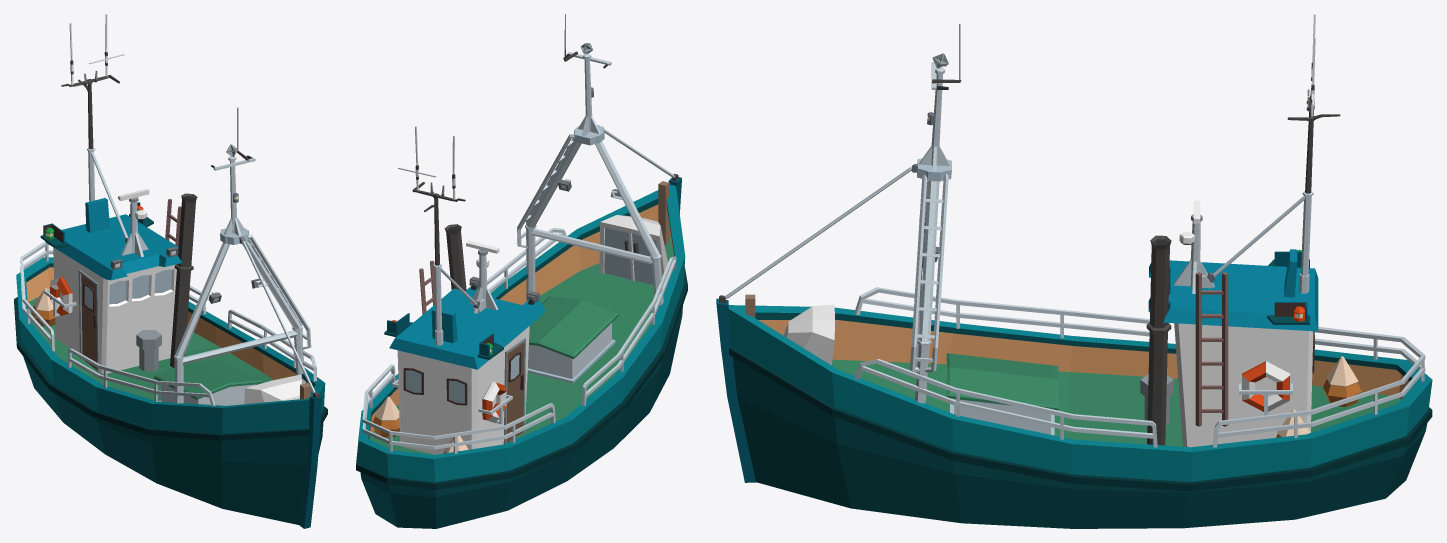
Rendered from boat.glb.
3 views of the same model, side by side, from view 1: azimuth 30°, elevation 25°; view 2: azimuth 150°, elevation 25°; view 3: azimuth 270°, elevation 25° (orthographic). The views are drawn at different scales.
Visible parts, largest first — view 1: FB Medium Hull_Boat 2_0; view 2: FB Medium Hull_Boat 2_0; view 3: FB Medium Hull_Boat 2_0.
Part boxes in pixels (box(x1,y1,x2,y2)): FB Medium Hull_Boat 2_0: box(14, 14, 327, 528); FB Medium Hull_Boat 2_0: box(356, 14, 687, 528); FB Medium Hull_Boat 2_0: box(716, 14, 1432, 528).
Bounding box in the file's own units: 5.73 × 11.11 × 15.51.
2 materials, 2 textured.
